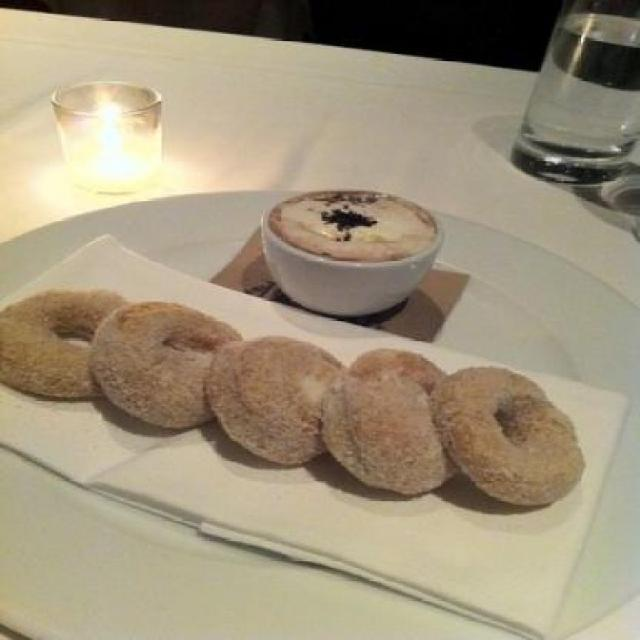Donuts: (4, 278, 628, 566)
